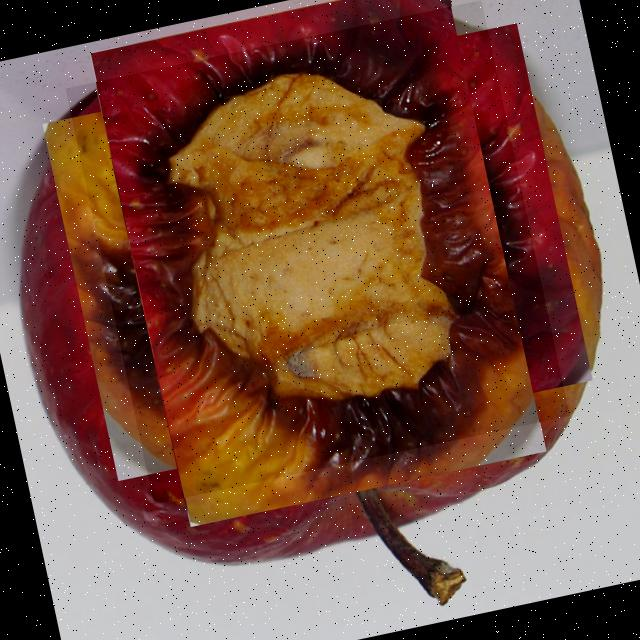Rotten Apple: (65, 0, 571, 504)
